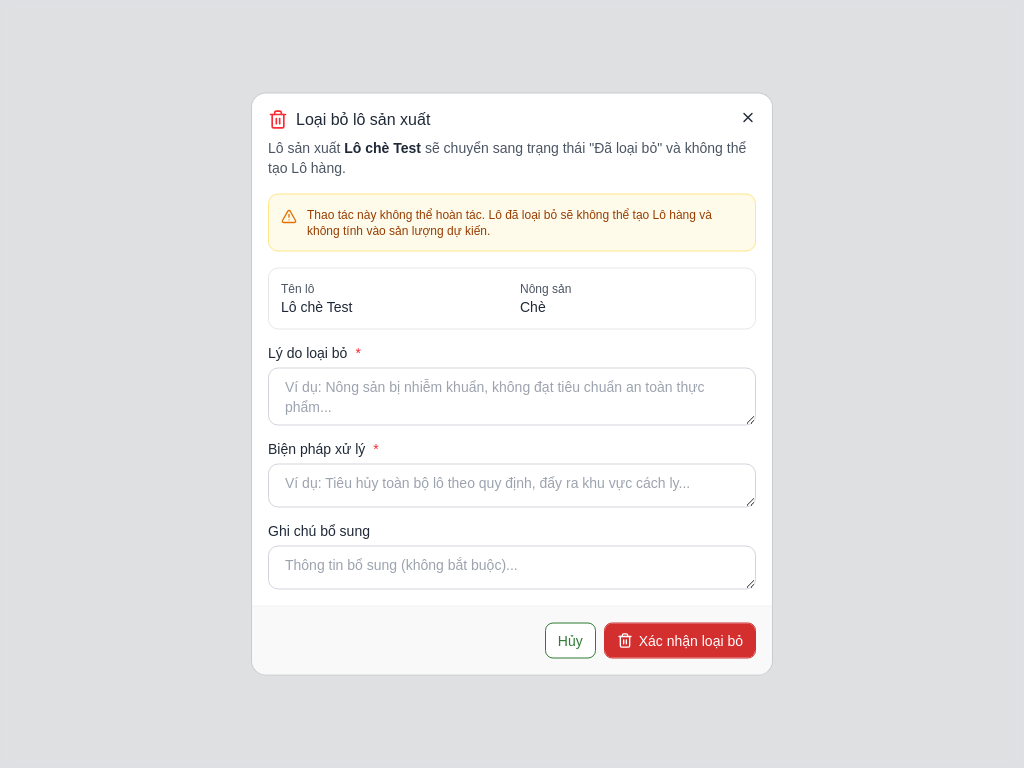
DisposeLotDialog › shows validation error when submitting without reason (TC-03)
# Fill only handling measure, leave reason empty
Replace the text in the text box labelled "Biện pháp xử lý *" with "Tiêu hủy lô" at point(512, 486), box [268,464,756,508]
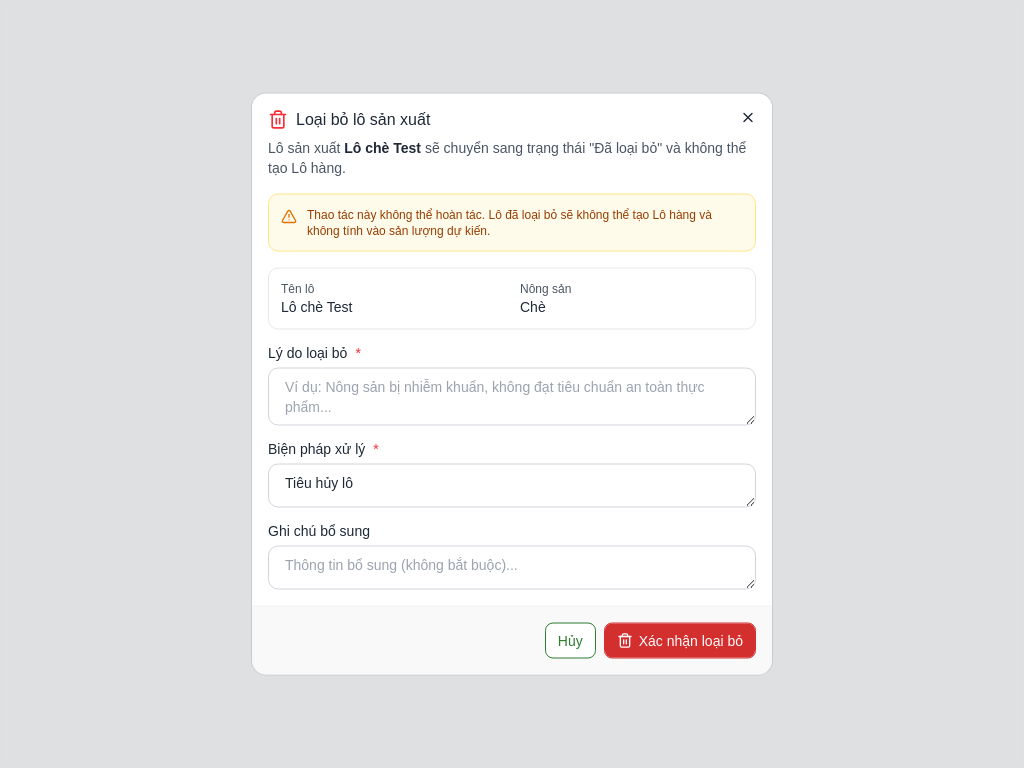
Click the button "Xác nhận loại bỏ" at point(680, 640), box [604,622,756,658]
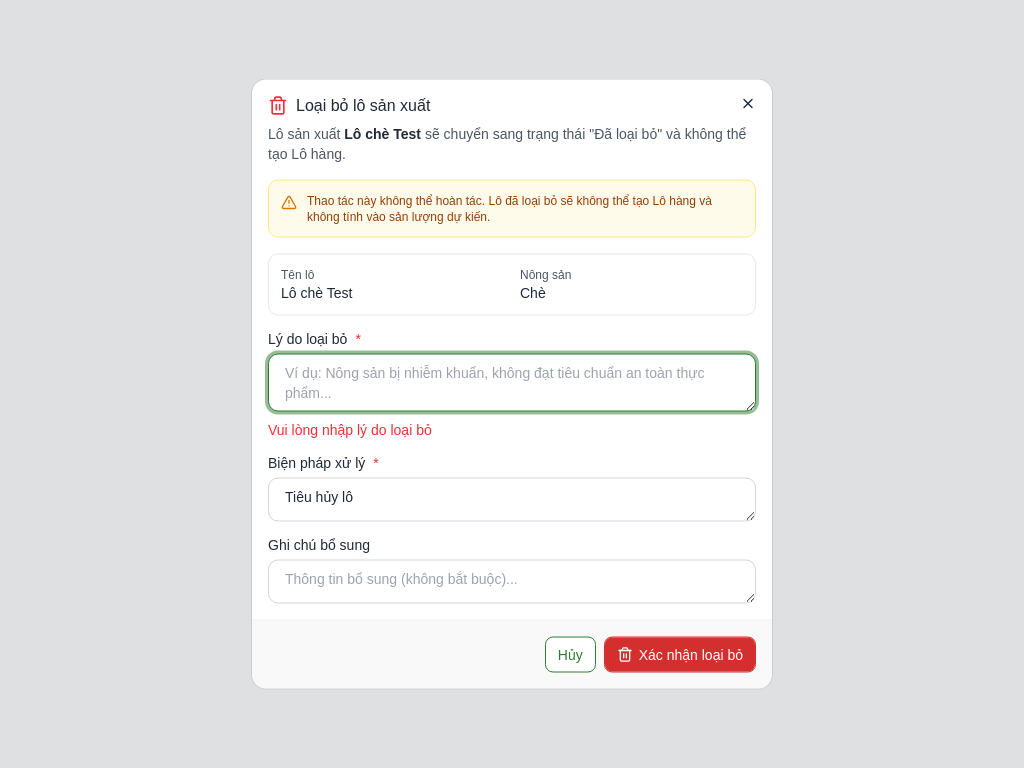
expect the text "Vui lòng nhập lý do loại bỏ" is shown: met, box [268,422,432,438]
